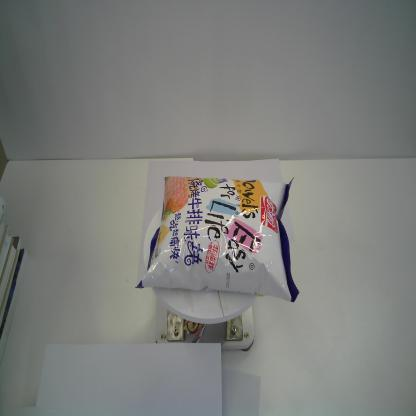Puffed Food: (134, 174, 301, 305)
